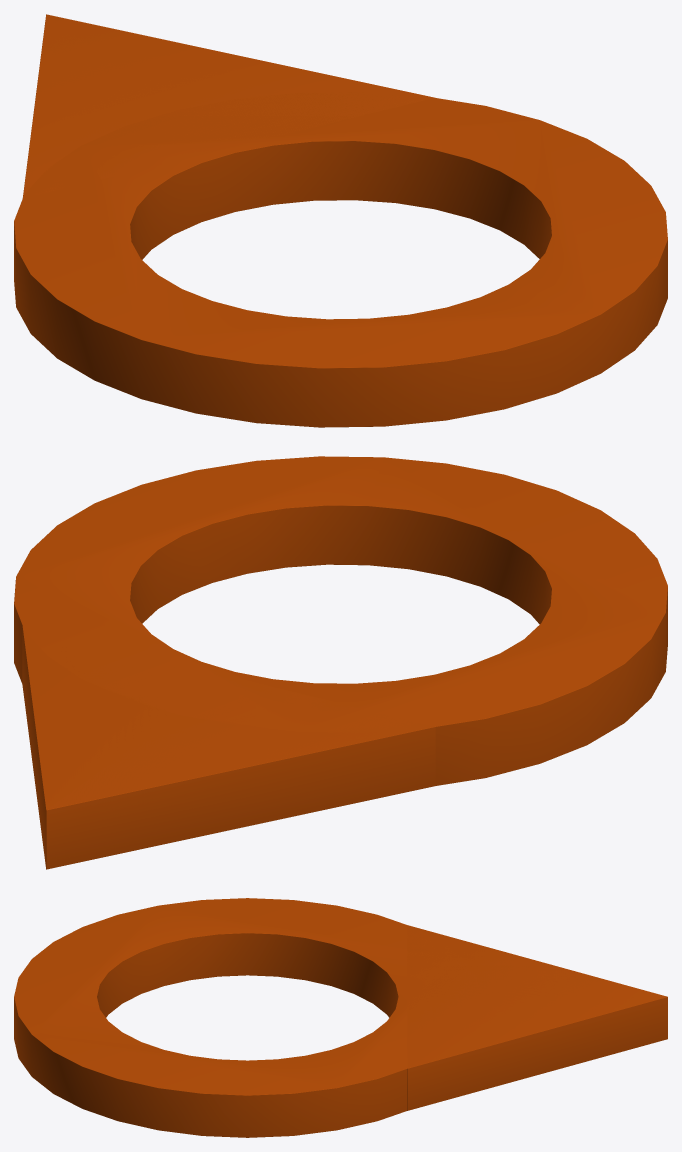
Rendered from poi_red.glb.
3 views of the same model, one above another, from view 1: azimuth 30°, elevation 25°; view 2: azimuth 150°, elevation 25°; view 3: azimuth 270°, elevation 25° (orthographic). The views are drawn at different scales.
Visible parts, largest first — view 1: Cube; view 2: Cube; view 3: Cube.
Part boxes in pixels (left/top/right/bottom): Cube: left=14, top=14, right=667, bottom=427; Cube: left=14, top=456, right=667, bottom=869; Cube: left=14, top=898, right=667, bottom=1137.
Size of the model in its own units: 2 by 0.2 by 2.8.
